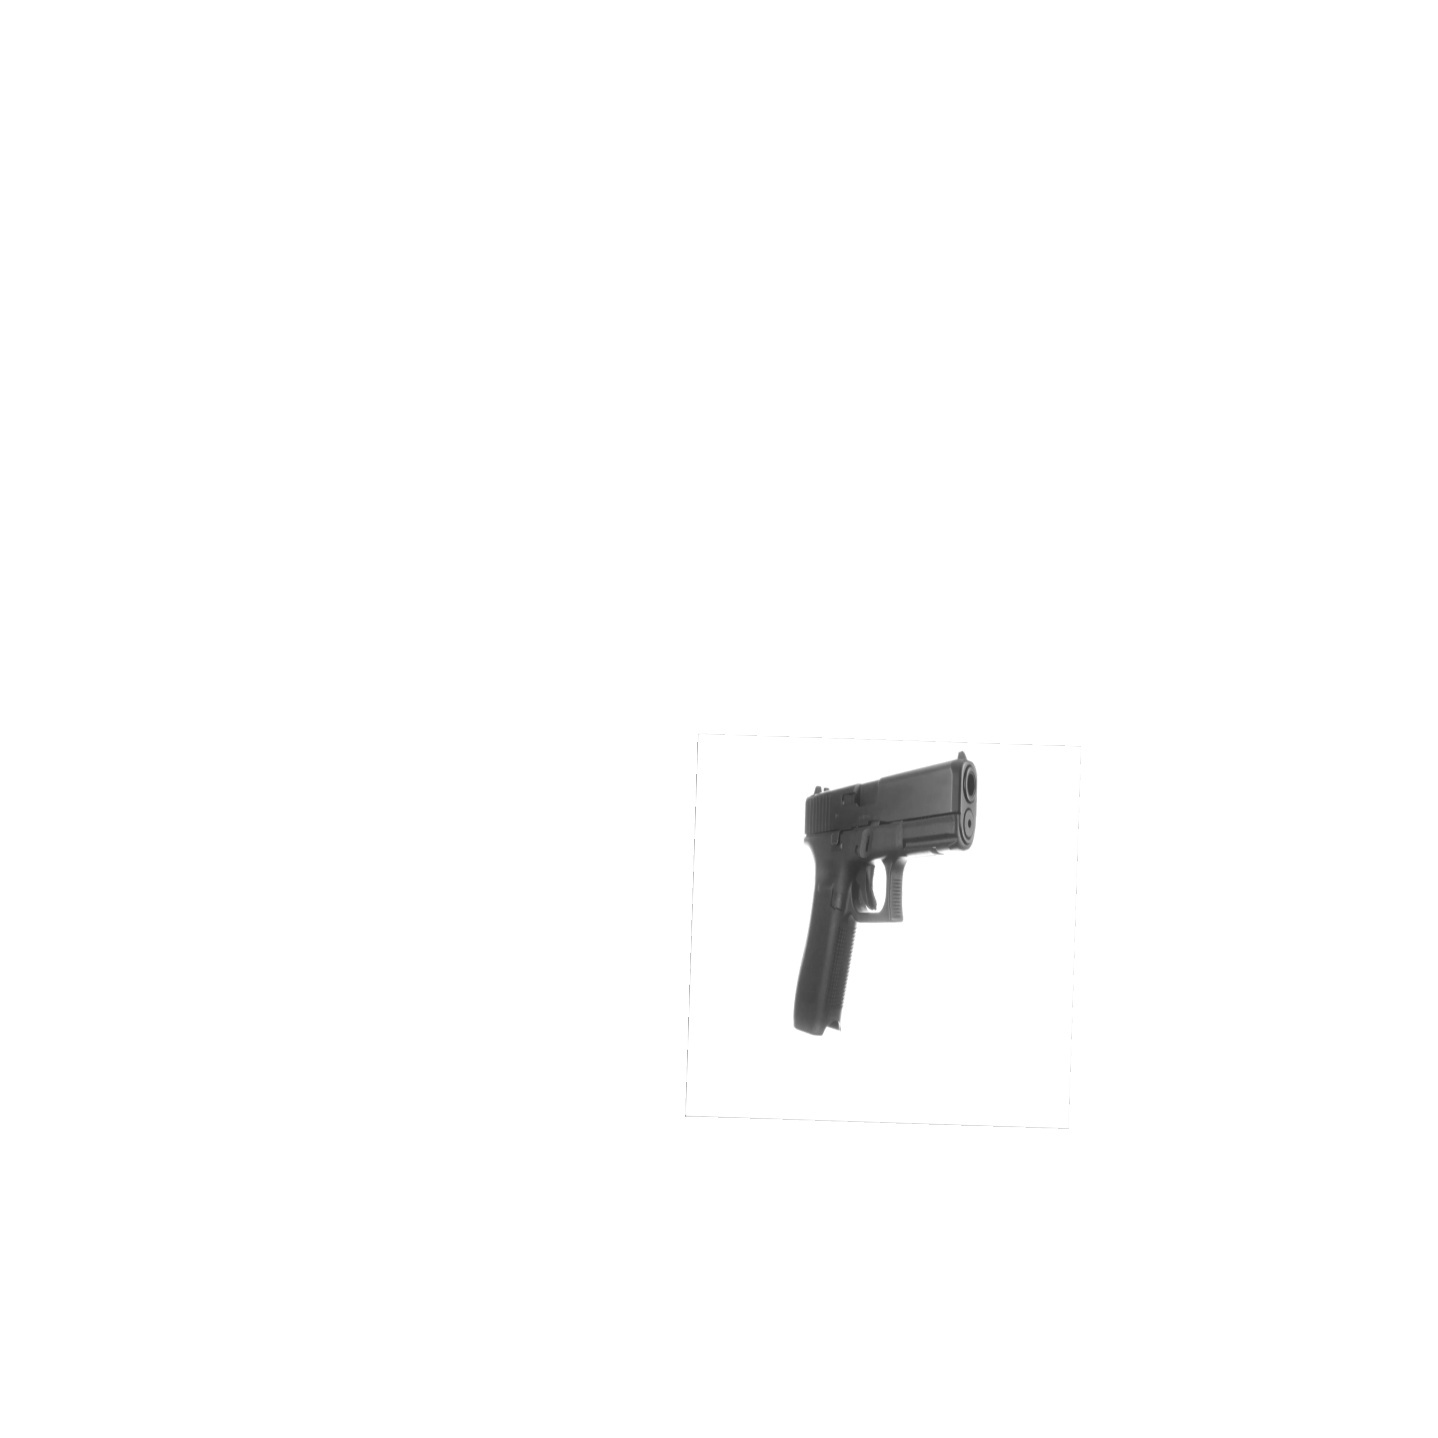gun: (789, 756, 982, 1036)
